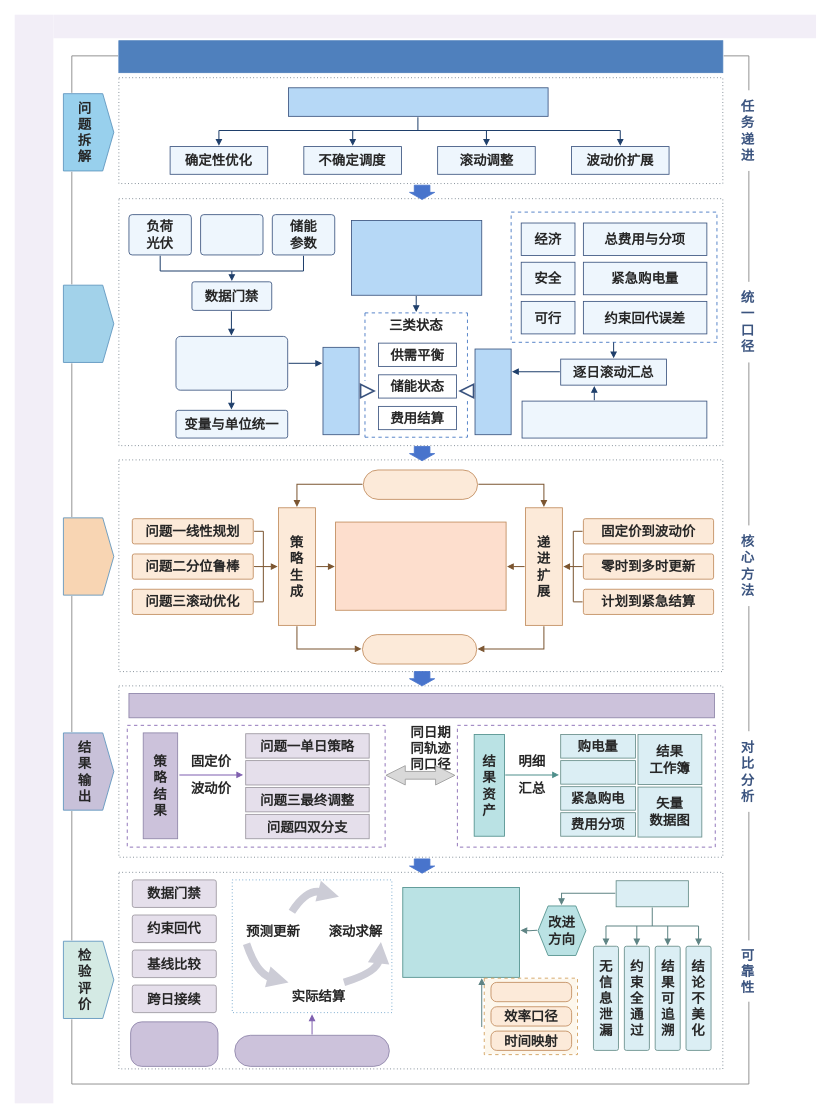
Image size: 830x1117. Some labels were removed from this diagram. The shapes that lost their labels are listed below. From the top down, each one's centre as x and y in pixels, then its label:
At (x=420, y=56): "微网与外部电网电力调控策略技术路线".
At (x=418, y=101): "微网经济购电与储能协同调度".
At (x=231, y=234): "分时 电价".
At (x=416, y=257): "统一能量平衡 与储能状态 约束模型".
At (x=88, y=323): "数 据 准 备".
At (x=231, y=363): "十分钟时步 功率转电量 信息集隔离".
At (x=340, y=390): "物 理 输 入".
At (x=492, y=391): "评 价 输 出".
At (x=614, y=419): "全年 365 日 每日日内 144 点".
At (x=420, y=484): "确定性调度".
At (x=88, y=556): "模 型 求 解".
At (x=420, y=565): "历史无泄漏预测 残差分位安全裕度 线性规划与滚动重算".
At (x=419, y=649): "滚动不确定调度".
At (x=421, y=705): "五套结果文件与统一口径的基线—主模型比较".
At (x=307, y=772): "问题二全年计划".
At (x=597, y=772): "充放电量".
At (x=651, y=893): "模型评价".
At (x=461, y=932): "可行性验证 敏感性分析 稳健性评价".
At (x=531, y=992): "结算口径".
At (x=174, y=1043): "时间标签 口径检验".
At (x=311, y=1050): "固定种子与从零复现".
